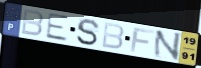B: (100, 21, 126, 51), (20, 8, 45, 38)
E: (44, 12, 70, 43)
F: (129, 27, 156, 54)
N: (152, 30, 184, 62)
S: (75, 18, 101, 47)
